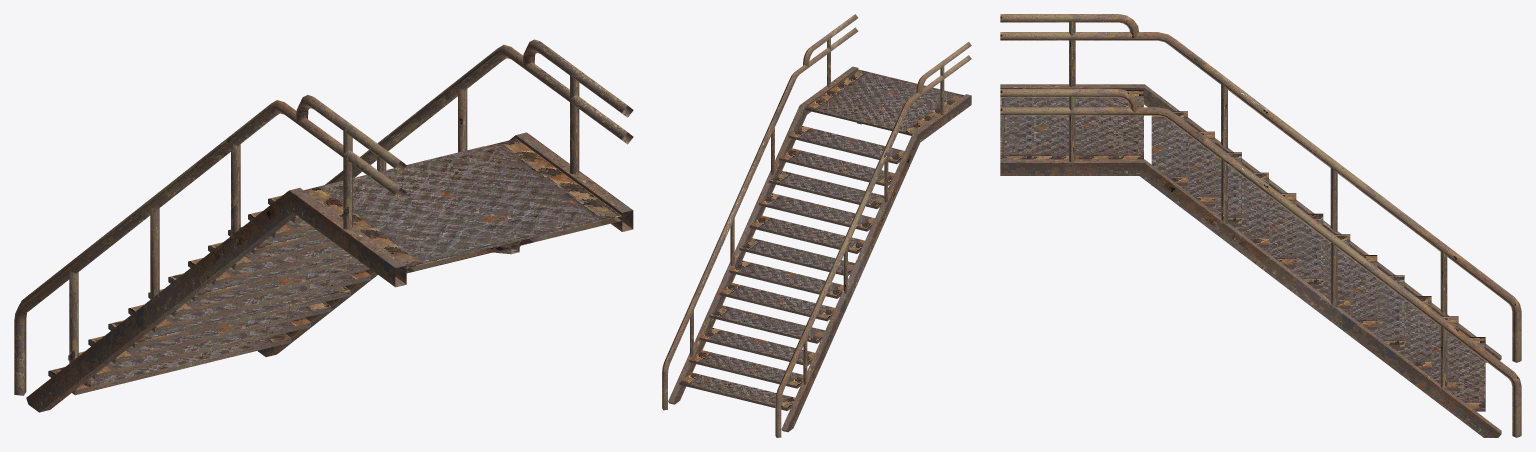
File: stairs.glb
3 renders of one model, left to right at view 1: azimuth 30°, elevation 25°; view 2: azimuth 150°, elevation 25°; view 3: azimuth 270°, elevation 25°, orthographic. The views are drawn at different scales.
Bounding box in the file's own units: 2.1 × 4.29 × 5.84.
1 material, 1 textured.
